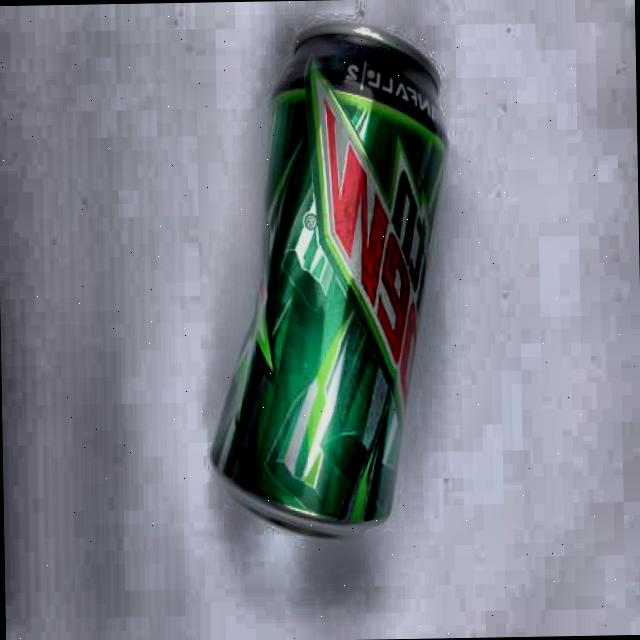metal: (196, 21, 460, 538)
